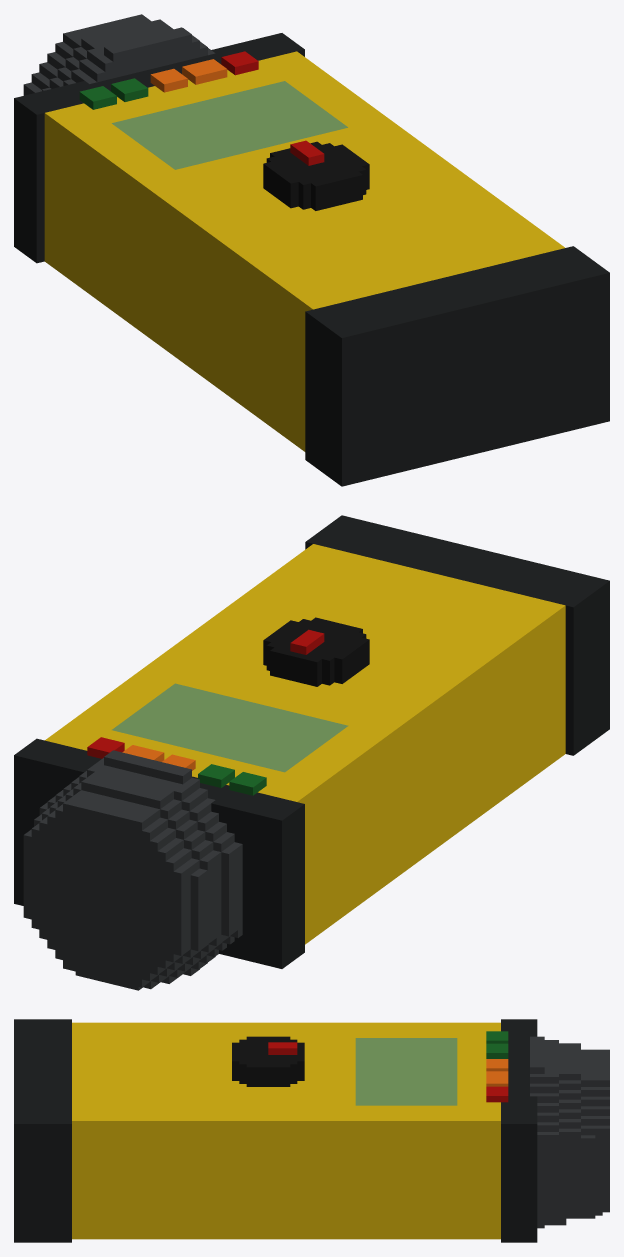
The model's file is emf_detector.glb.
3 views of the same model, one above another, from view 1: azimuth 30°, elevation 25°; view 2: azimuth 150°, elevation 25°; view 3: azimuth 270°, elevation 25° (orthographic). The views are drawn at different scales.
Visible parts, largest first — view 1: emf_detector:compound; view 2: emf_detector:compound; view 3: emf_detector:compound.
Part boxes in pixels (box(x1,y1,x2,y2)): emf_detector:compound: box(14, 14, 609, 486); emf_detector:compound: box(14, 515, 609, 990); emf_detector:compound: box(14, 1019, 609, 1242).
Size of the model in its own units: 0.068 by 0.05 by 0.164.
